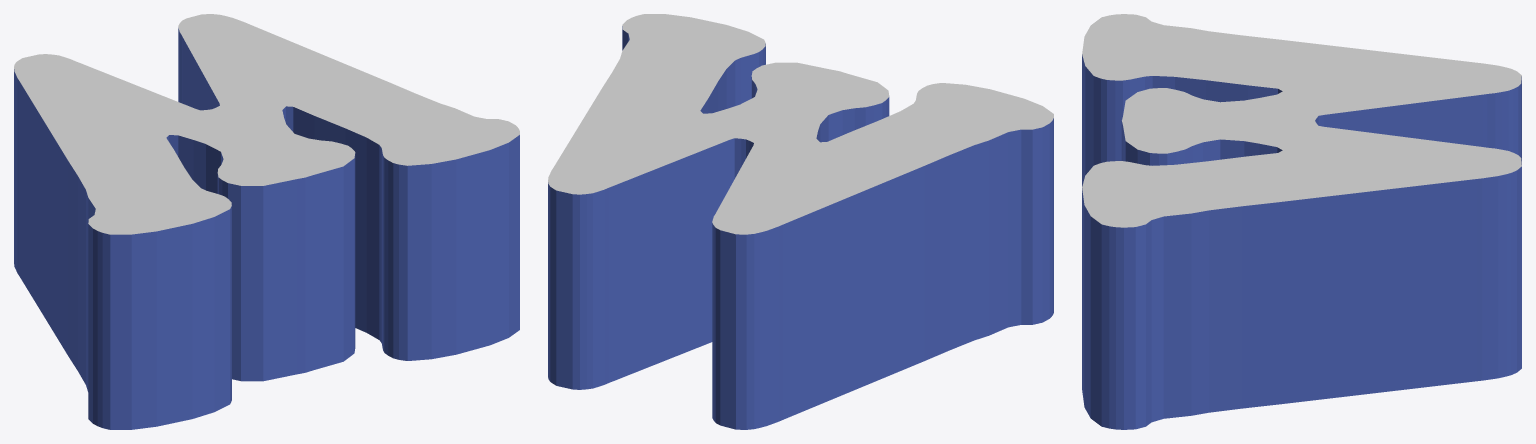
3 renders of one model, left to right at view 1: azimuth 30°, elevation 25°; view 2: azimuth 150°, elevation 25°; view 3: azimuth 270°, elevation 25°, orthographic. The views are drawn at different scales.
Parts seen in each view (by area): view 1: W; view 2: W; view 3: W.
Part boxes in pixels (x1=…): W: x1=14, y1=14, x2=519, y2=429; W: x1=548, y1=14, x2=1053, y2=429; W: x1=1082, y1=14, x2=1521, y2=429.
Size of the model in its own units: 1.67 by 0.7382 by 1.45.
